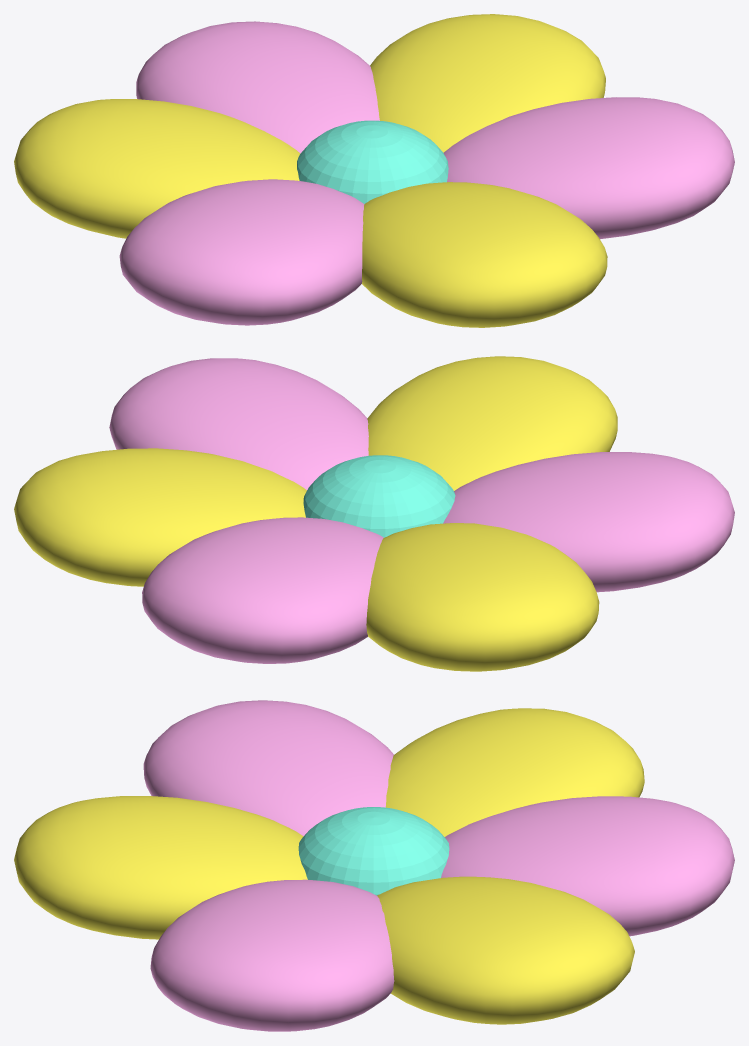
File: flor_color.fbx
3 renders of one model, top to bottom at view 1: azimuth 30°, elevation 25°; view 2: azimuth 150°, elevation 25°; view 3: azimuth 270°, elevation 25°, orthographic. The views are drawn at different scales.
Parts seen in each view (by area): view 1: Cube.002, Cube.001, Sphere; view 2: Cube.001, Cube.002, Sphere; view 3: Cube.001, Cube.002, Sphere.
Boxes of the visible parts, x1=… form: Cube.002: x1=119, y1=21, x2=734, y2=325; Cube.001: x1=14, y1=14, x2=607, y2=327; Sphere: x1=297, y1=120, x2=448, y2=203; Cube.001: x1=14, y1=356, x2=617, y2=671; Cube.002: x1=109, y1=358, x2=734, y2=663; Sphere: x1=303, y1=455, x2=455, y2=537; Cube.001: x1=14, y1=708, x2=644, y2=1024; Cube.002: x1=143, y1=700, x2=734, y2=1031; Sphere: x1=298, y1=807, x2=449, y2=895.
Size of the model in its own units: 515 by 85.91 by 532.
